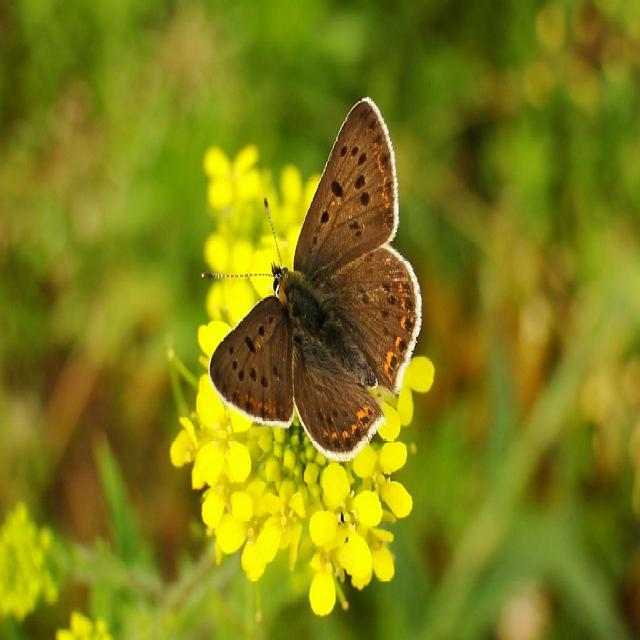butterfly: (208, 97, 423, 463)
